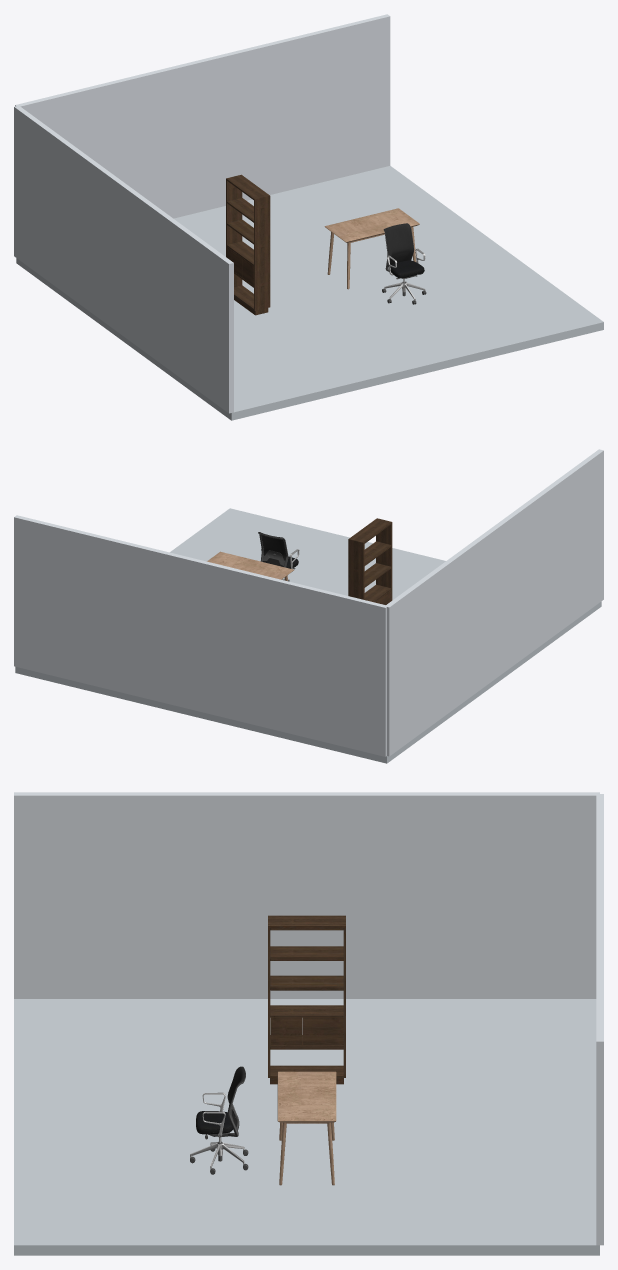
The model's file is stage1.glb.
The picture shows the model from 3 angles, top to bottom: view 1: azimuth 30°, elevation 25°; view 2: azimuth 150°, elevation 25°; view 3: azimuth 270°, elevation 25°; orthographic projection. The views are drawn at different scales.
Visible parts, largest first — view 1: Floor, wall_back, wall_left, raw_model.002, raw_model, raw_model.001; view 2: wall_back, wall_left, Floor, raw_model.002, raw_model, raw_model.001; view 3: Floor, wall_left, raw_model.002, raw_model, wall_back, raw_model.001.
Part boxes in pixels (x1,y1,x2,y2): Floor: (16,165,603,420); wall_back: (15,14,390,218); wall_left: (14,105,233,413); raw_model.002: (226,174,270,315); raw_model: (324,208,419,289); raw_model.001: (382,223,426,304); wall_back: (14,515,387,756); wall_left: (386,449,603,756); Floor: (15,508,601,763); raw_model.002: (348,518,392,604); raw_model: (207,551,293,581); raw_model.001: (258,532,299,581); Floor: (14,999,599,1255); wall_left: (14,792,599,998); raw_model.002: (268,915,345,1084); raw_model: (277,1071,336,1185); wall_back: (596,794,603,1245); raw_model.001: (190,1066,248,1174).
Size of the model in its own units: 6.04 by 2.42 by 6.04.
5 materials, 3 textured.
